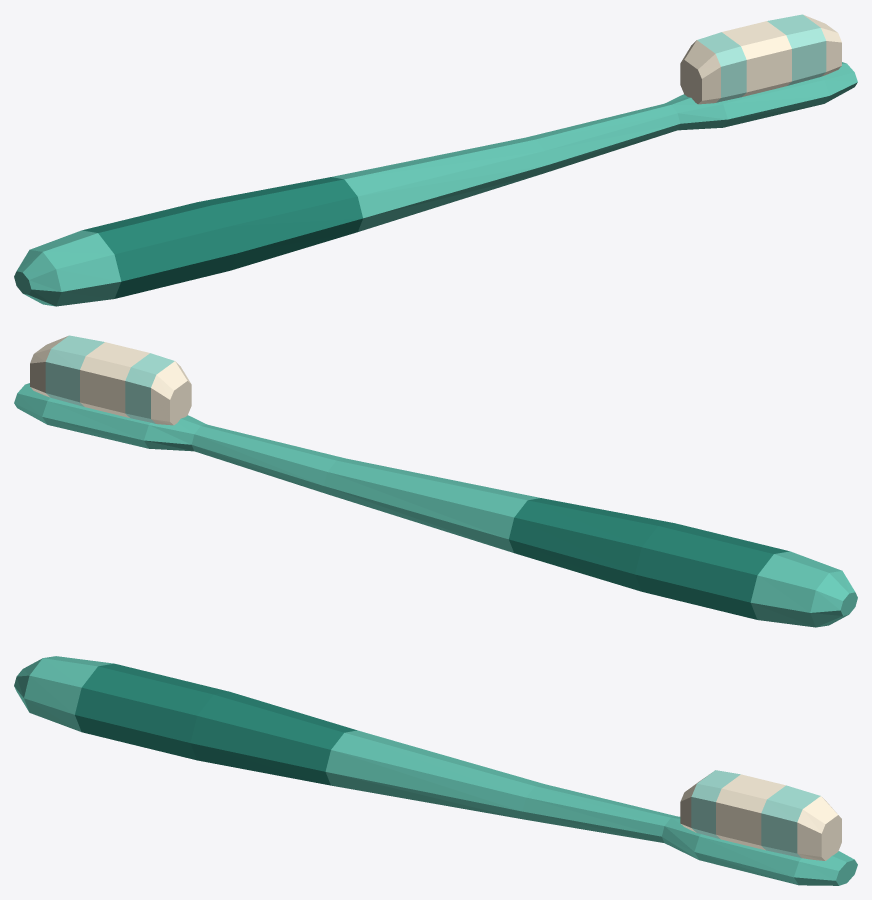
File: Travel Toothbrush.obj
The picture shows the model from 3 angles, top to bottom: view 1: azimuth 30°, elevation 25°; view 2: azimuth 150°, elevation 25°; view 3: azimuth 330°, elevation 25°; orthographic projection.
Visible parts, largest first — view 1: TravelToothbrush; view 2: TravelToothbrush; view 3: TravelToothbrush.
Boxes of the visible parts, bbox=[...] form: TravelToothbrush: bbox=[14, 14, 857, 306]; TravelToothbrush: bbox=[14, 335, 857, 627]; TravelToothbrush: bbox=[14, 656, 857, 885].
Bounding box in the file's own units: 0.164 × 0.0195 × 0.016.
Materials: 1 (1 with a texture image).
